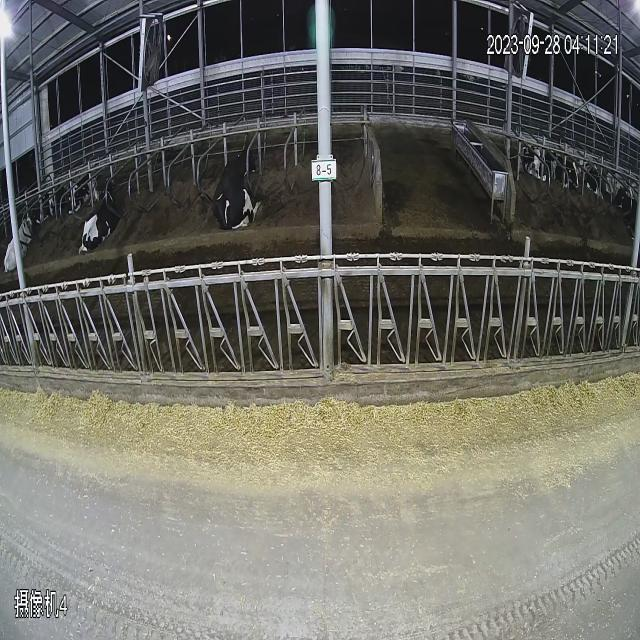lying down: (0, 112, 280, 282), (495, 93, 640, 253), (202, 104, 276, 246), (78, 152, 138, 261), (6, 142, 43, 280), (611, 144, 640, 242), (550, 126, 584, 202), (62, 155, 98, 220), (520, 120, 544, 196), (38, 158, 61, 225), (586, 138, 606, 204)
